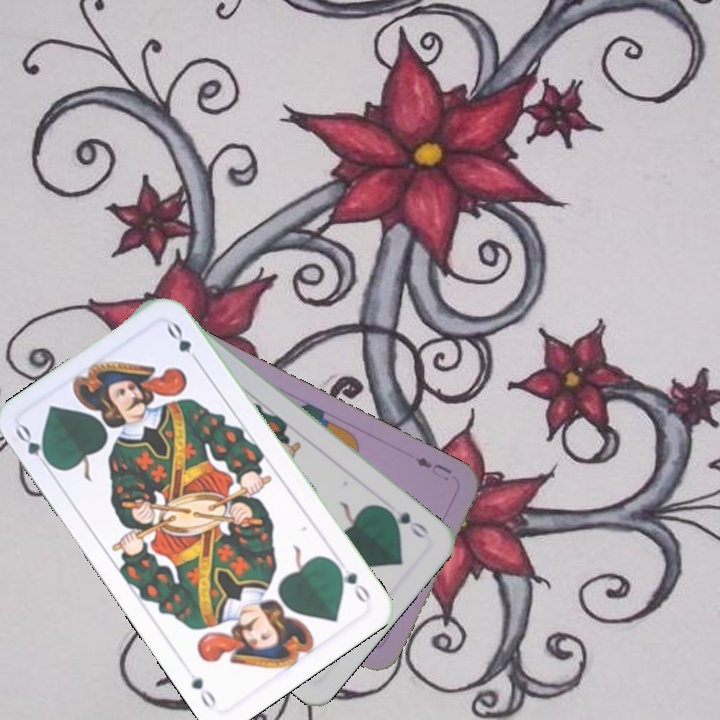EU: (410, 453, 455, 481)
GO: (11, 421, 57, 474), (329, 558, 373, 606), (380, 503, 431, 541)
